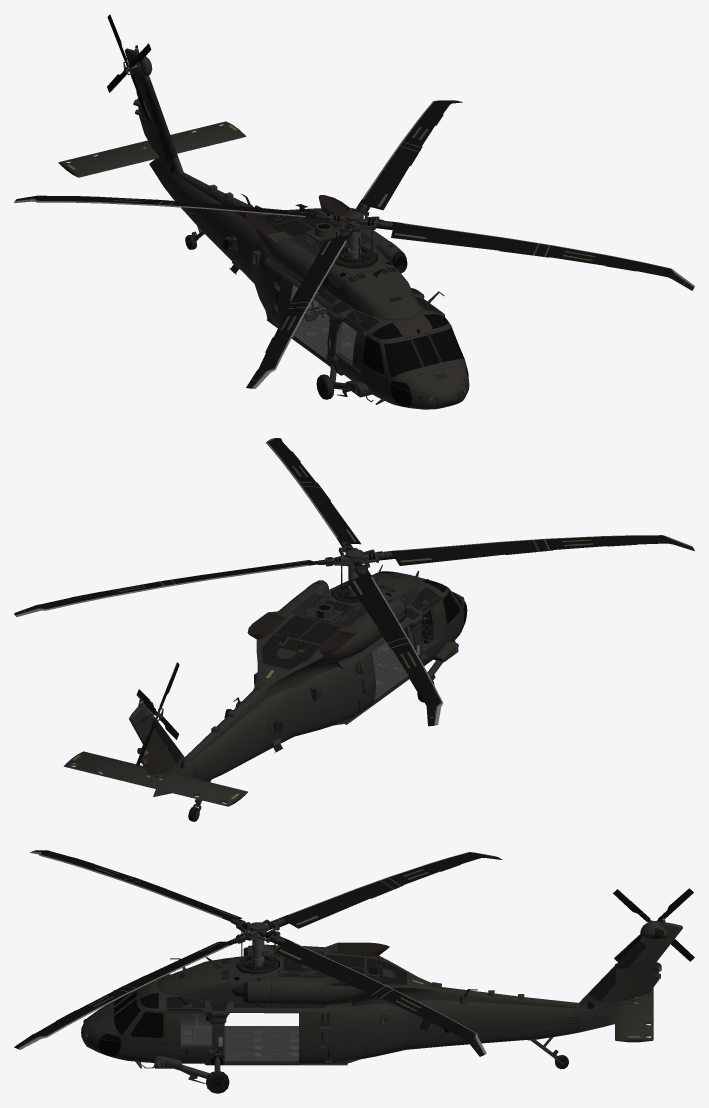
Rendered from heli_blackhawk.glb.
The picture shows the model from 3 angles, top to bottom: view 1: azimuth 30°, elevation 25°; view 2: azimuth 150°, elevation 25°; view 3: azimuth 270°, elevation 25°; orthographic projection. The views are drawn at different scales.
Parts seen in each view (by area): view 1: BODY, PROP0, PROP1; view 2: BODY, PROP0, PROP1; view 3: BODY, PROP0, PROP1.
Part boxes in pixels (x1=…): BODY: x1=58, y1=45, x2=469, y2=409; PROP0: x1=14, y1=100, x2=694, y2=388; PROP1: x1=107, y1=14, x2=151, y2=121; BODY: x1=63, y1=549, x2=467, y2=821; PROP0: x1=14, y1=438, x2=694, y2=726; PROP1: x1=136, y1=662, x2=179, y2=766; BODY: x1=81, y1=916, x2=682, y2=1093; PROP0: x1=14, y1=850, x2=502, y2=1056; PROP1: x1=613, y1=888, x2=694, y2=961.
Size of the model in its own units: 12.21 by 4.85 by 17.02.
1 material, 1 textured.
